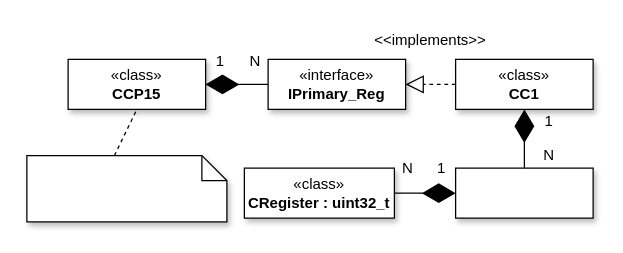
The diagram is 623 pixels wide and 253 high, and some of its shapes have lost their labels. Here are the shapes that lost their labels. From the top down, the centre of each, then its label:
At (x=127, y=190): "e.g. accessing the control register: regs[C1][C0][0]".
At (x=525, y=194): "«class» CSecondary_Reg".
